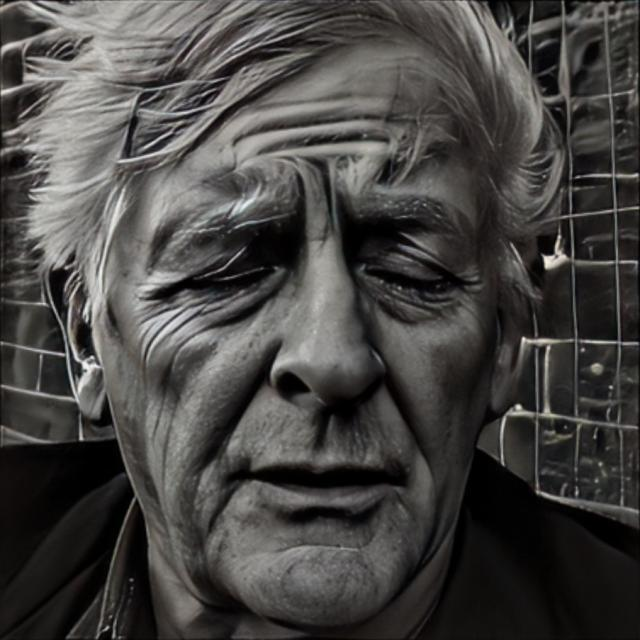sad: (111, 49, 503, 626)
